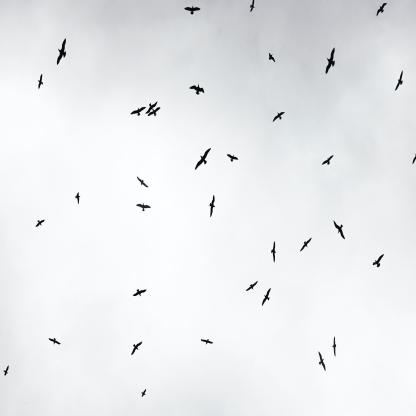bird: (194, 148, 210, 171), (57, 38, 66, 66), (326, 48, 335, 74), (334, 221, 345, 239), (189, 83, 205, 95), (300, 237, 312, 252), (395, 70, 403, 91), (262, 288, 271, 306), (318, 352, 326, 372), (184, 4, 200, 14), (130, 106, 146, 116), (136, 176, 148, 188), (146, 102, 158, 114), (373, 254, 384, 267), (132, 341, 142, 355), (376, 2, 386, 16), (210, 195, 216, 217), (322, 155, 334, 165), (136, 203, 151, 211), (246, 281, 258, 291), (148, 107, 160, 117), (272, 112, 284, 122), (133, 289, 147, 297), (48, 338, 61, 346), (249, 0, 256, 13), (227, 154, 238, 162), (272, 241, 276, 263), (332, 336, 336, 356), (38, 74, 43, 89), (201, 339, 213, 345), (36, 219, 44, 227), (269, 53, 275, 63), (4, 365, 9, 376), (76, 192, 80, 204), (141, 389, 146, 397), (412, 153, 415, 165)
